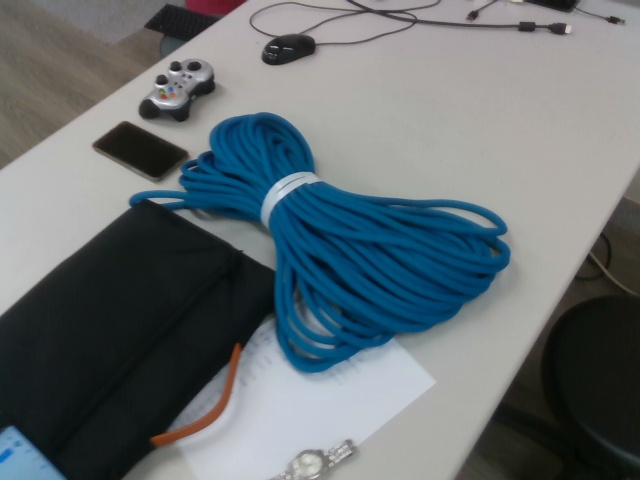rope: (124, 109, 516, 376)
